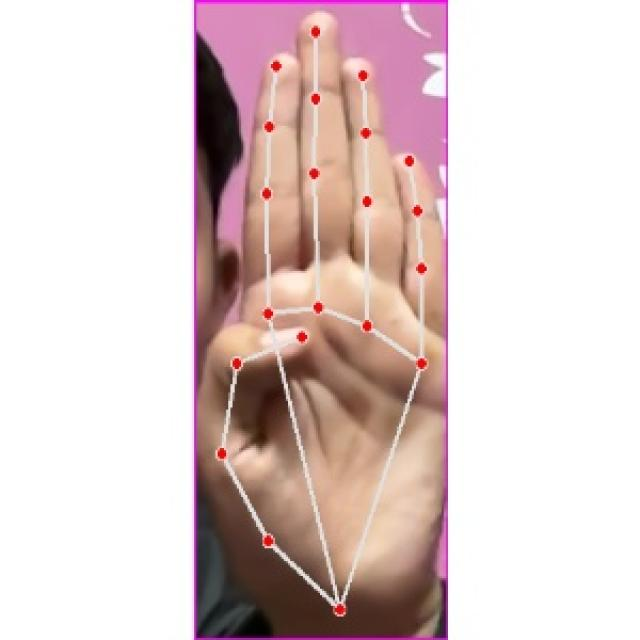B: (200, 0, 444, 640)
